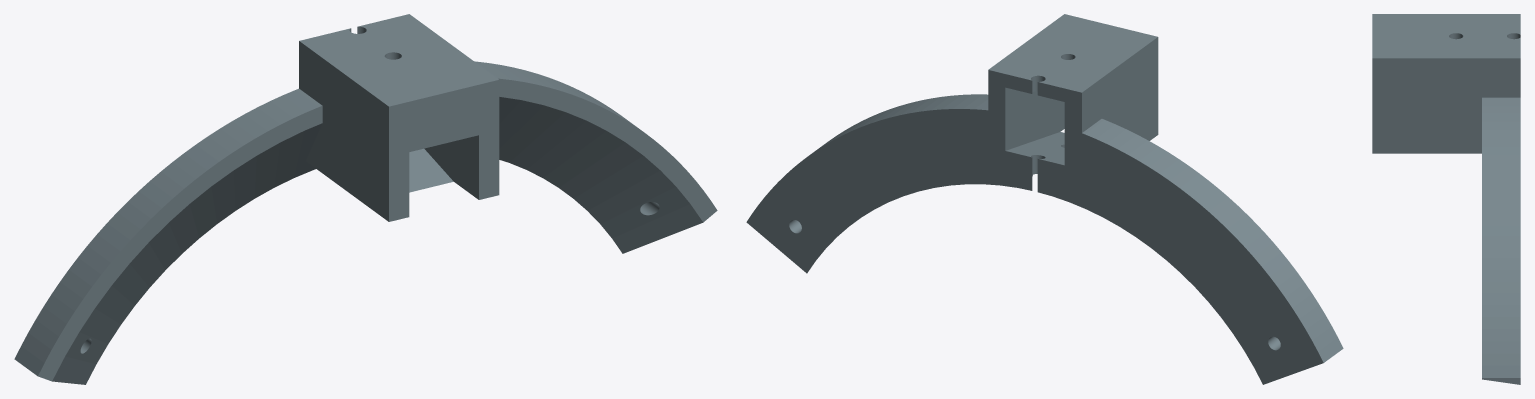
File: est_anillo_segmento.glb
3 renders of one model, left to right at view 1: azimuth 30°, elevation 25°; view 2: azimuth 150°, elevation 25°; view 3: azimuth 270°, elevation 25°, orthographic. The views are drawn at different scales.
Parts seen in each view (by area): view 1: world; view 2: world; view 3: world.
Boxes of the visible parts, bbox=[...] form: world: bbox=[14, 14, 717, 384]; world: bbox=[746, 14, 1343, 384]; world: bbox=[1372, 14, 1520, 384].
Bounding box in the file's own units: 201 × 82.49 × 46.
